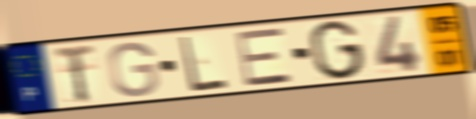4: (373, 14, 423, 75)
E: (233, 25, 296, 89)
G: (308, 19, 367, 82), (106, 39, 162, 99)
L: (177, 34, 231, 94)
T: (51, 42, 97, 106)
